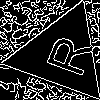R: (36, 29, 95, 79)
